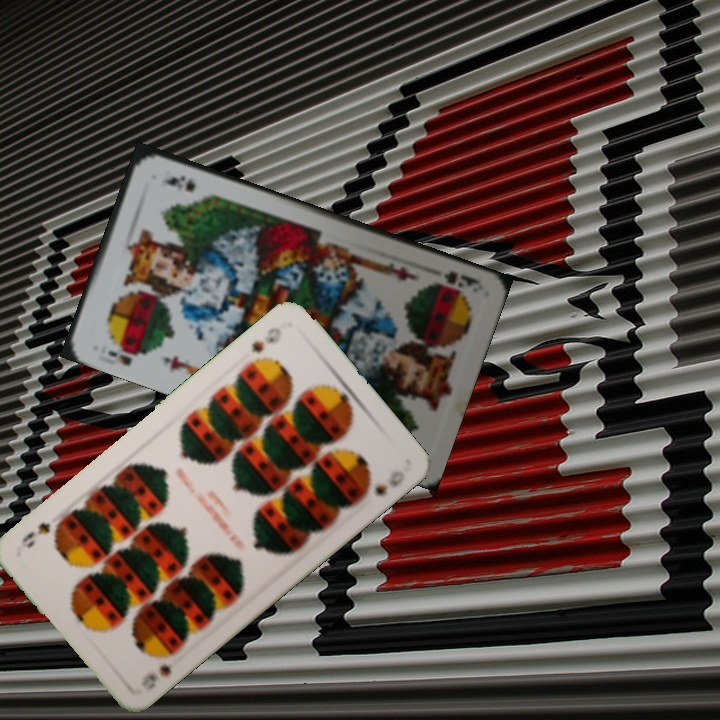S9: (137, 646, 180, 693), (247, 323, 284, 356)
SK: (429, 266, 484, 295), (104, 338, 149, 369)
